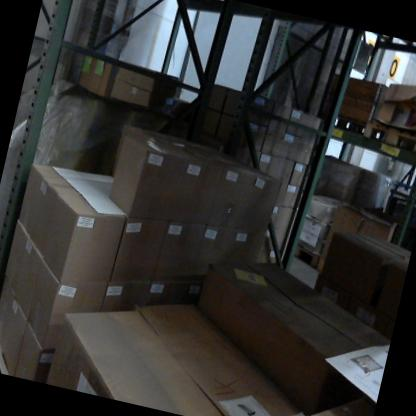pallet: (312, 279, 395, 337), (360, 118, 416, 160), (324, 108, 373, 146), (288, 240, 321, 277), (0, 325, 24, 374), (373, 35, 416, 57), (170, 0, 233, 14)
